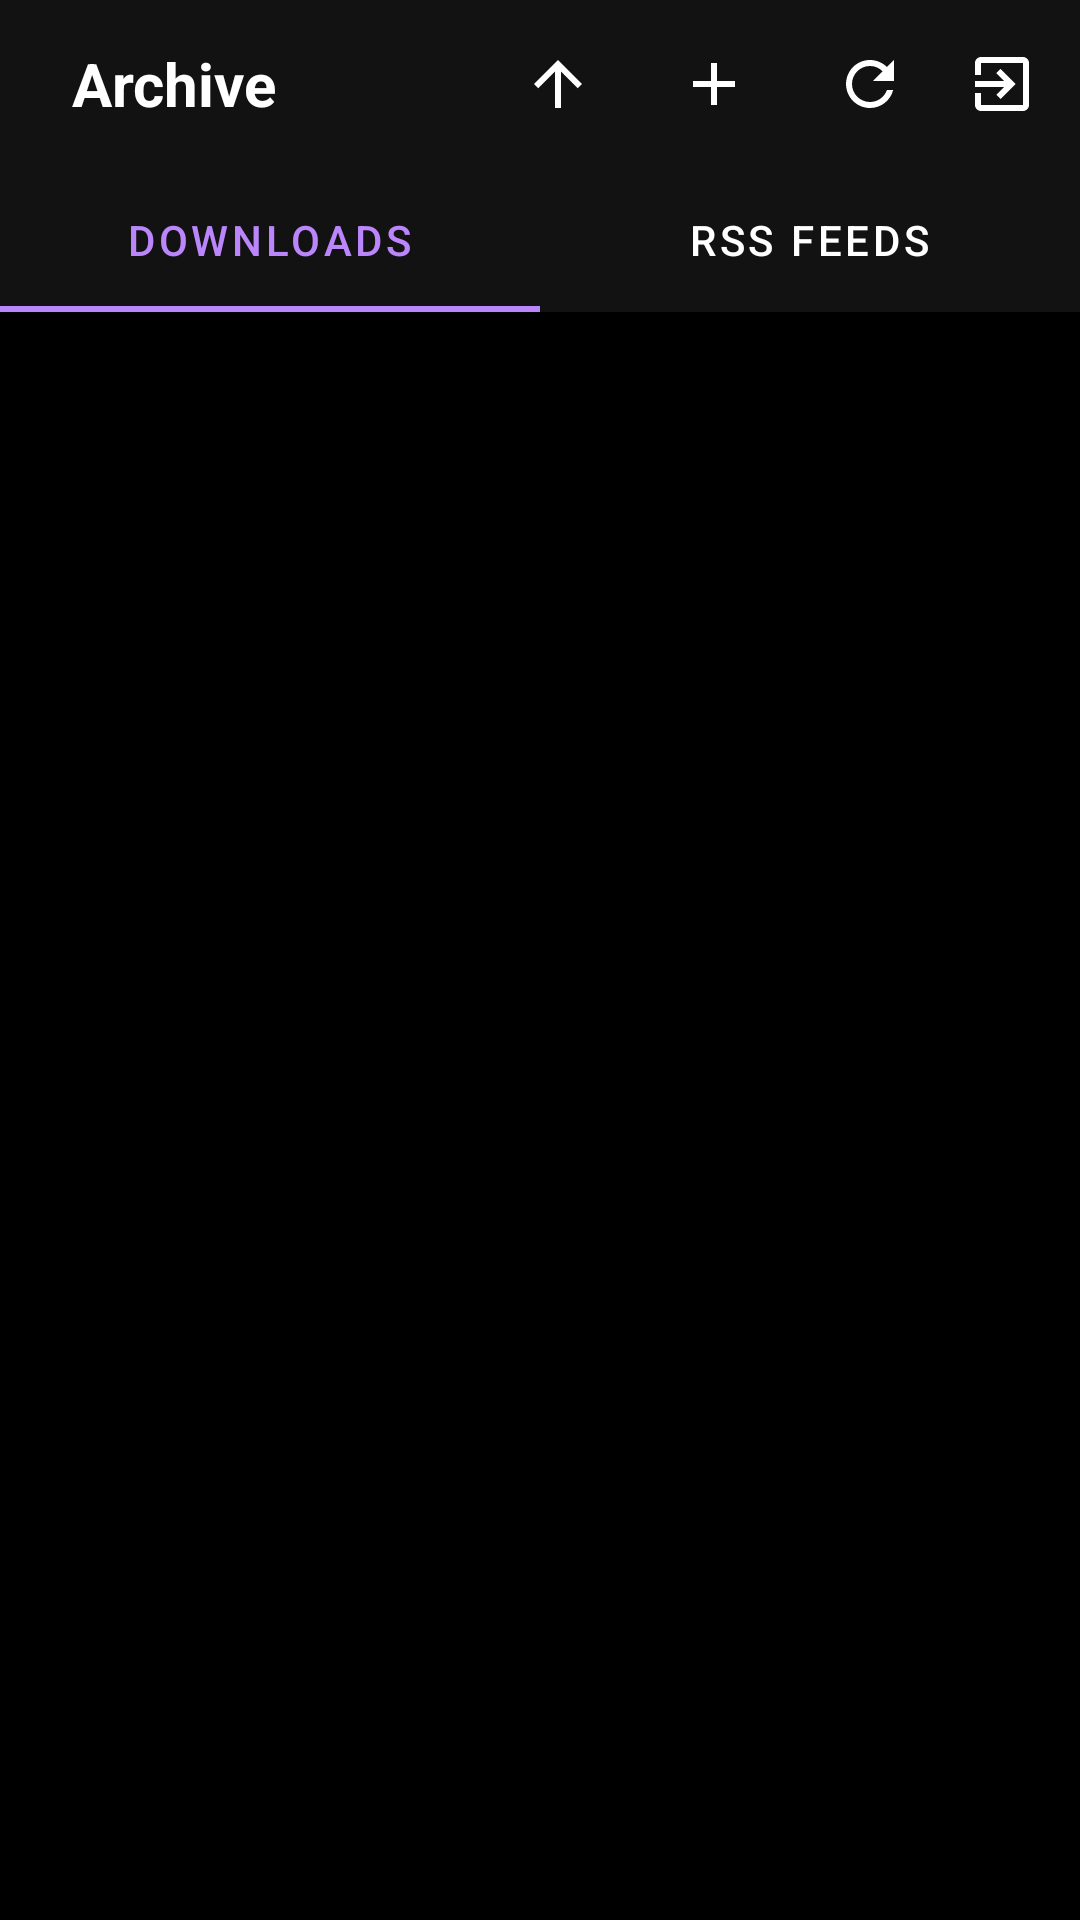

Screen size 1080w x 1920h. Icon name, then its center in pixels as (x,y):
add: (714,84)
arrow upward: (558,84)
exit to app: (1002,84)
refresh: (870,84)
